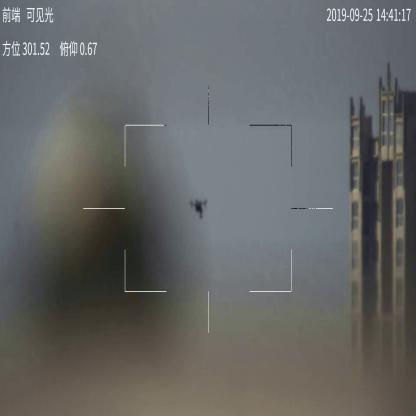uav: (185, 196, 207, 218)
